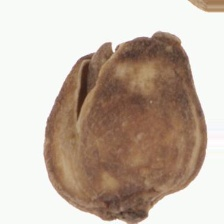L1: (74, 35, 123, 112), (100, 200, 169, 223)
L2: (44, 31, 207, 221)
